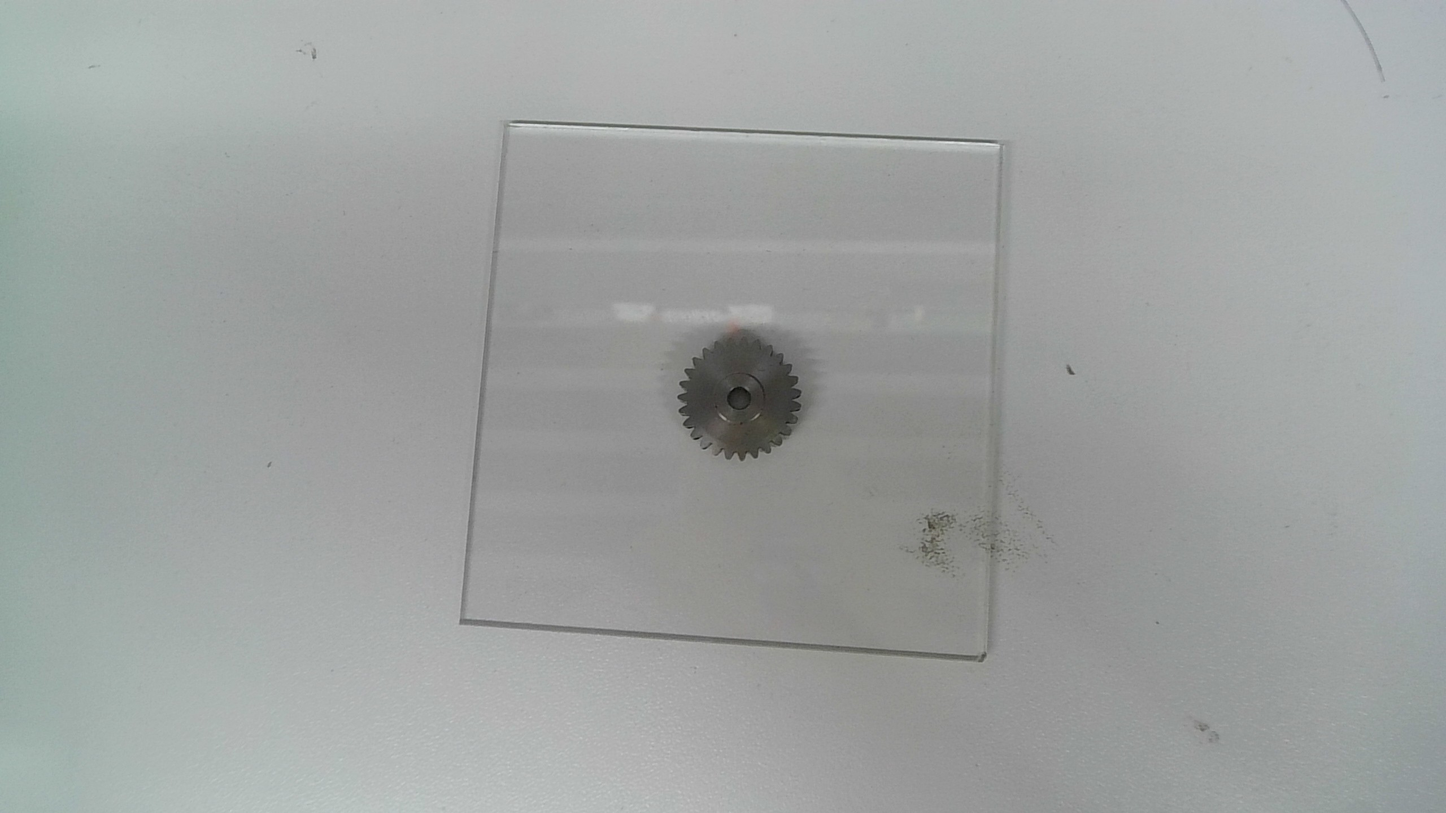gear: (676, 335, 802, 463)
